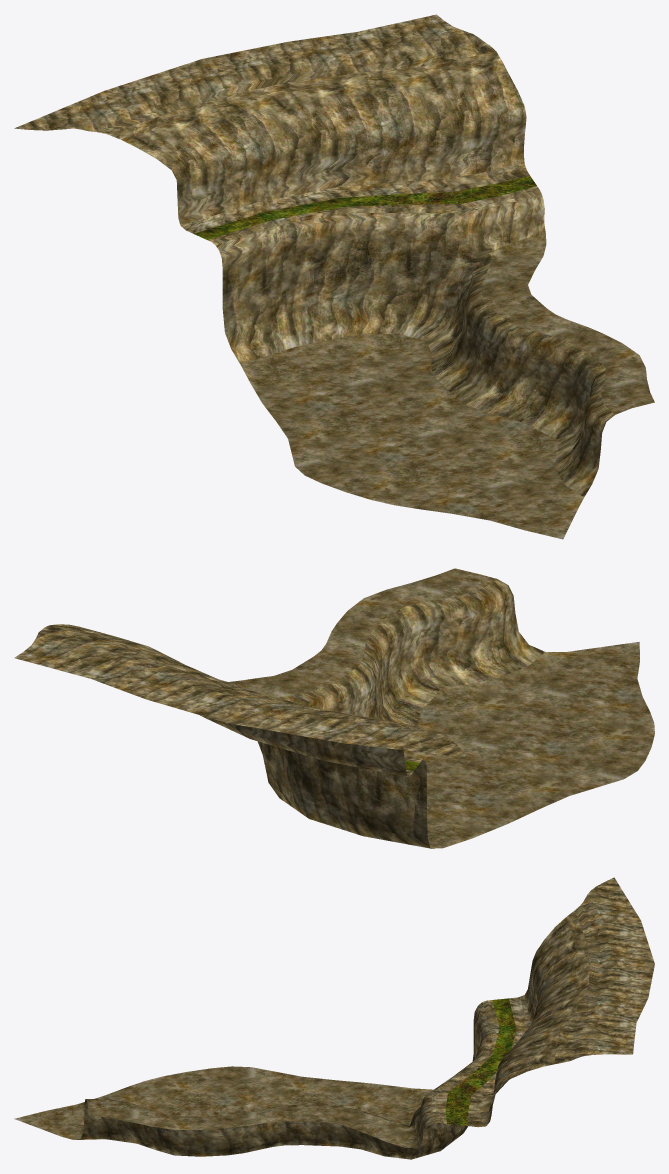
Rendered from RM_PLAYSURFACE_FINAL_RM_PLAYSURFACE07.fbx.
The picture shows the model from 3 angles, top to bottom: view 1: azimuth 30°, elevation 25°; view 2: azimuth 150°, elevation 25°; view 3: azimuth 270°, elevation 25°; orthographic projection. The views are drawn at different scales.
Parts seen in each view (by area): view 1: RM_PLAYSURFACE_FINAL_RM_PLAYSURFACE07; view 2: RM_PLAYSURFACE_FINAL_RM_PLAYSURFACE07; view 3: RM_PLAYSURFACE_FINAL_RM_PLAYSURFACE07.
Boxes of the visible parts, x1,y1,x2,y2 form: RM_PLAYSURFACE_FINAL_RM_PLAYSURFACE07: (14, 14, 654, 539); RM_PLAYSURFACE_FINAL_RM_PLAYSURFACE07: (14, 568, 654, 848); RM_PLAYSURFACE_FINAL_RM_PLAYSURFACE07: (14, 877, 654, 1159).
Size of the model in its own units: 256117 by 107551 by 380170.
5 materials, 5 textured.
